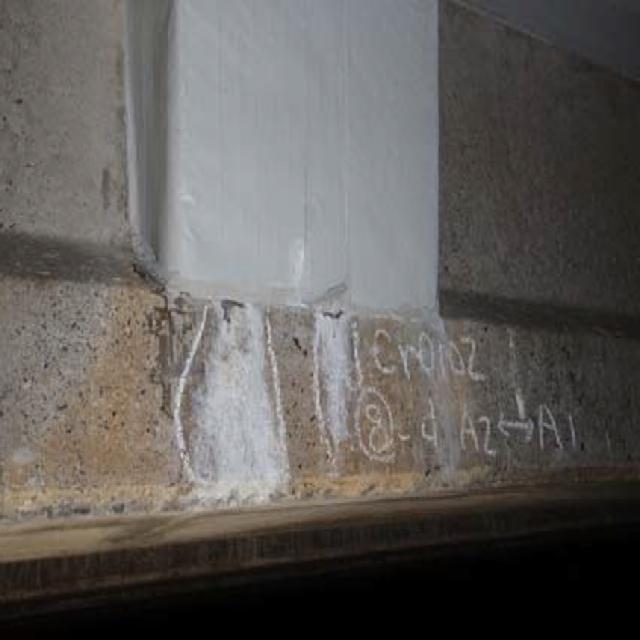freelime: (172, 296, 374, 508)
